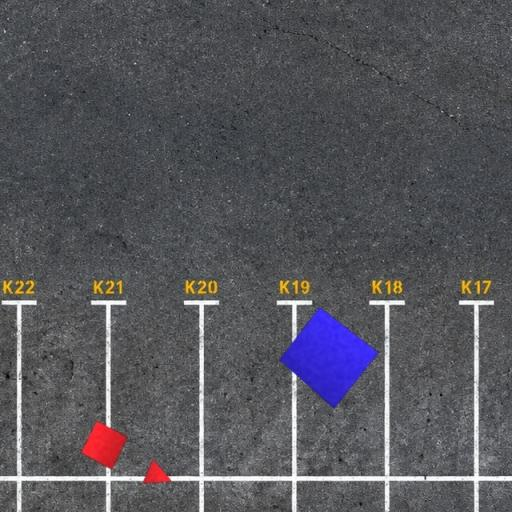BLUE_SQUARE: (278, 306, 380, 410)
RED_SQUARE: (80, 420, 129, 471)
